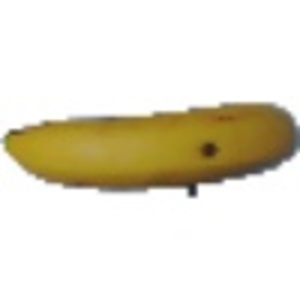banana: (1, 94, 298, 192)
